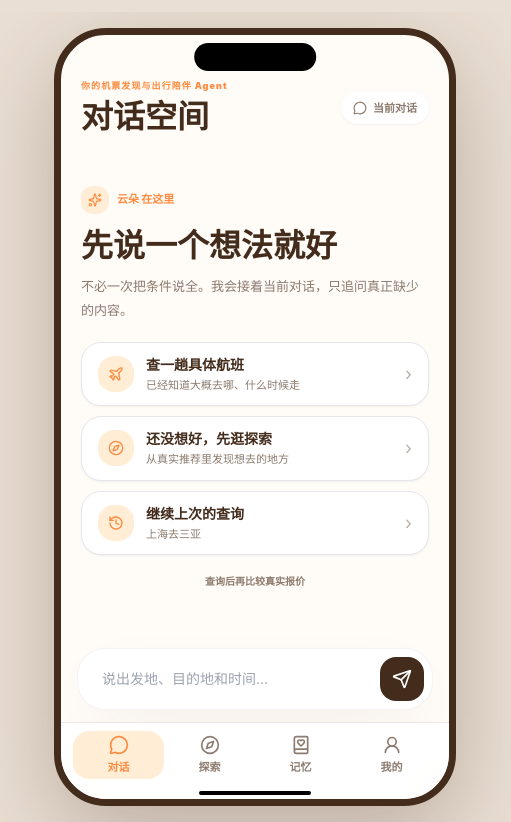
Test: loads another recommendation page when the mobile waterfall reaches its end
Click the button "探索": point(210, 755) [164, 731, 255, 779]
(page scrolled)
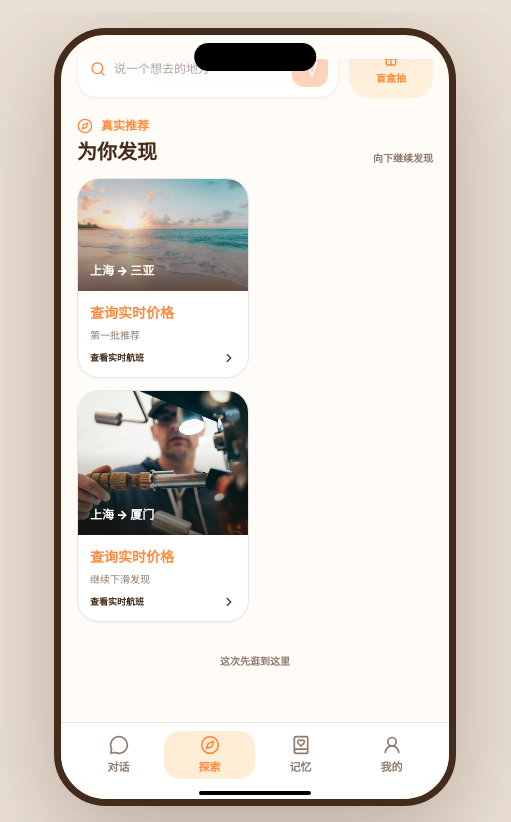
expect the button with aria-label "查看推荐 上海 → 厦门" is shown: met, box [77, 390, 249, 622]
expect the text "这次先逛到这里" is shown: met, box [220, 654, 290, 669]
